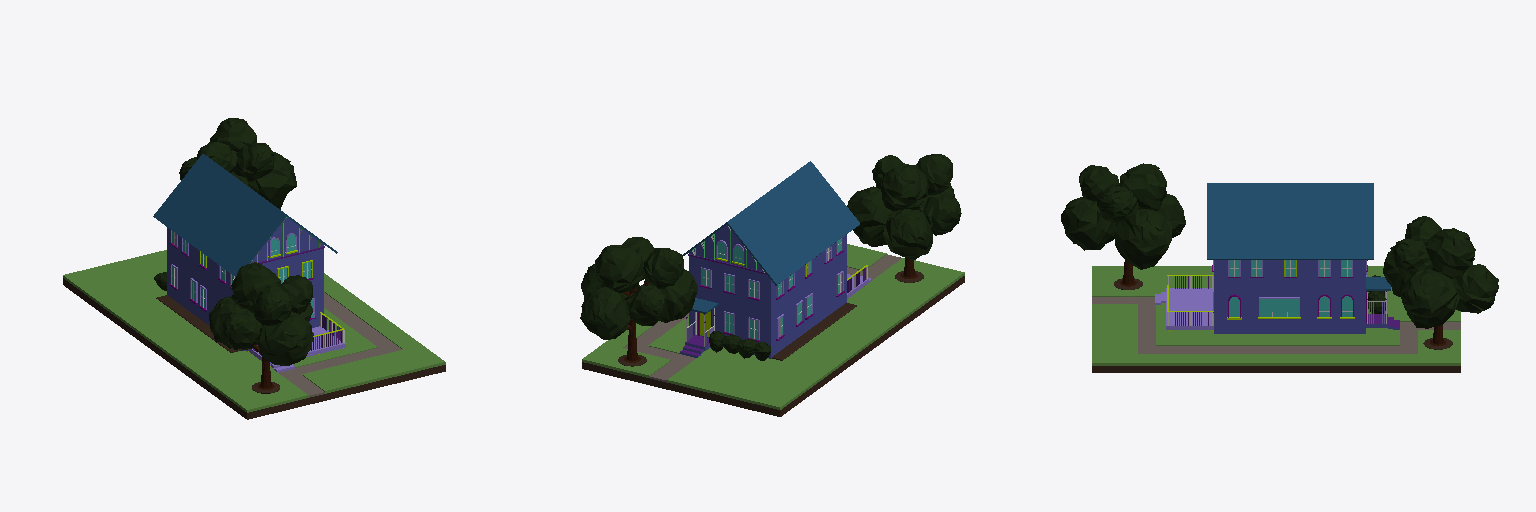
File: house_5_on_lot.obj
3 renders of one model, left to right at view 1: azimuth 30°, elevation 25°; view 2: azimuth 150°, elevation 25°; view 3: azimuth 270°, elevation 25°, orthographic.
Visible parts, largest first — view 1: house_5_on_lot; view 2: house_5_on_lot; view 3: house_5_on_lot.
Part boxes in pixels (left/top/right/bottom): house_5_on_lot: left=63, top=118, right=445, bottom=419; house_5_on_lot: left=580, top=154, right=964, bottom=416; house_5_on_lot: left=1061, top=163, right=1498, bottom=372.
Bounding box in the file's own units: 20.53 × 12.3 × 34.88.